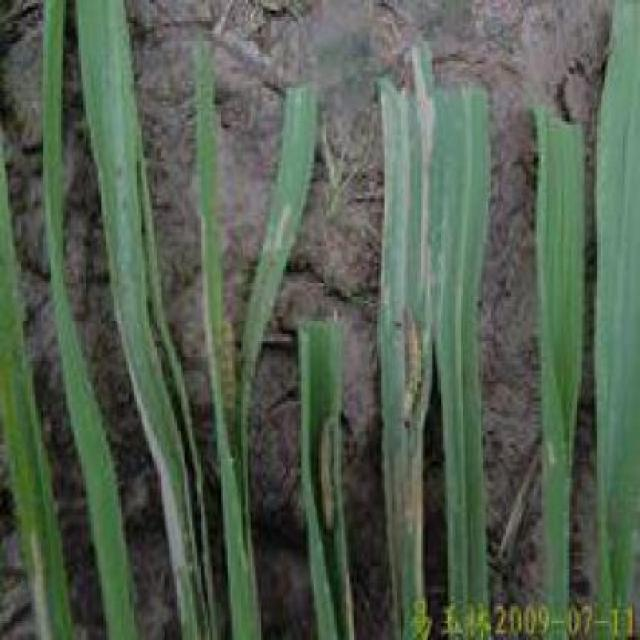leaf-folder: (202, 288, 261, 468), (295, 385, 348, 550), (388, 297, 434, 448)
